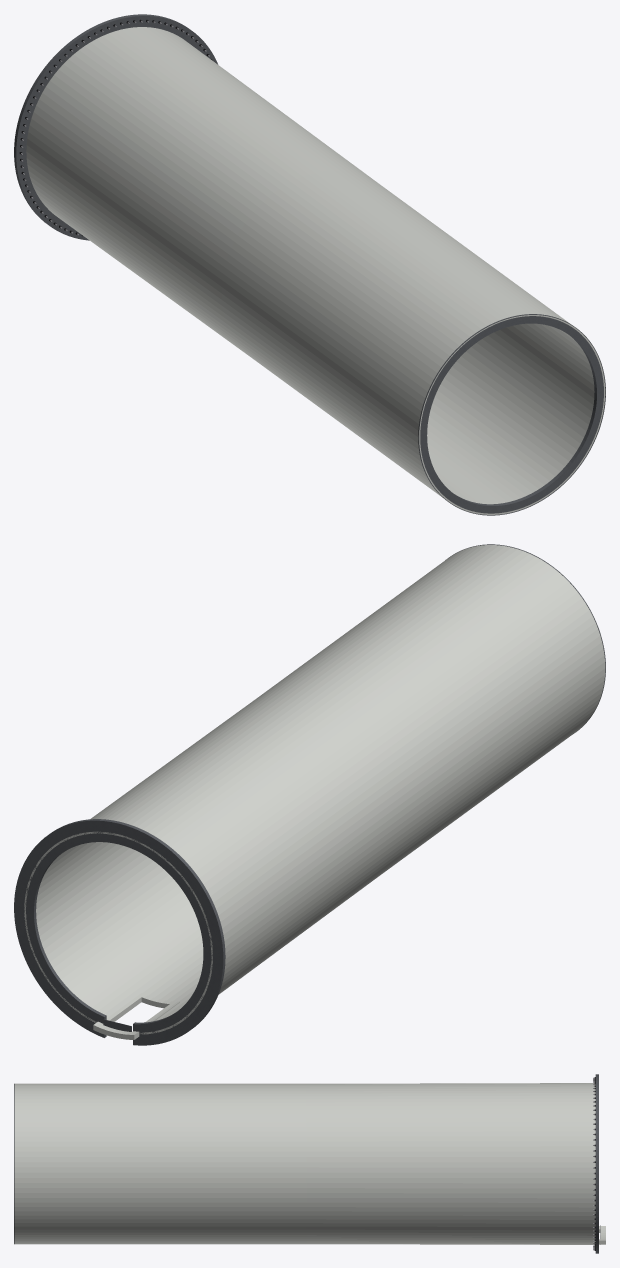
Rendered from tower_section_1.glb.
3 views of the same model, one above another, from view 1: azimuth 30°, elevation 25°; view 2: azimuth 150°, elevation 25°; view 3: azimuth 270°, elevation 25° (orthographic). The views are drawn at different scales.
Visible parts, largest first — view 1: tower_section_1; view 2: tower_section_1; view 3: tower_section_1.
Part boxes in pixels (bbox=[...]): tower_section_1: bbox=[14, 14, 605, 515]; tower_section_1: bbox=[14, 544, 605, 1045]; tower_section_1: bbox=[14, 1074, 605, 1253].
Bounding box in the file's own units: 6.64 × 6.61 × 21.88.
4 materials, 3 textured.
